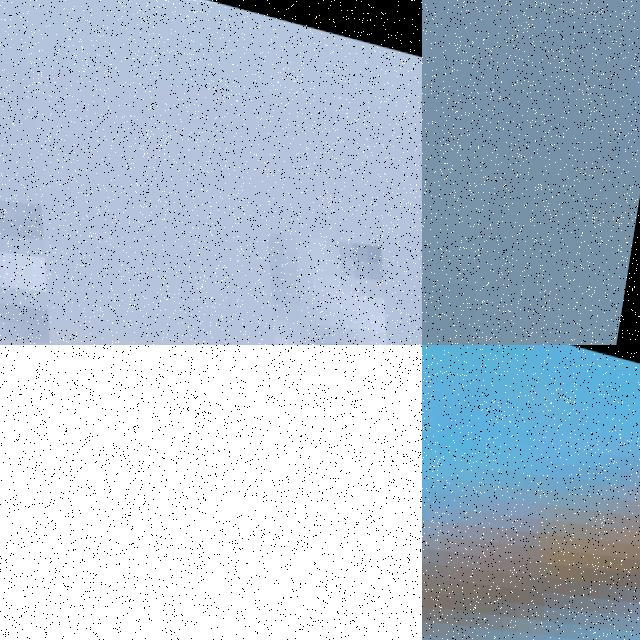drone: (0, 0, 422, 345), (422, 345, 640, 640)
